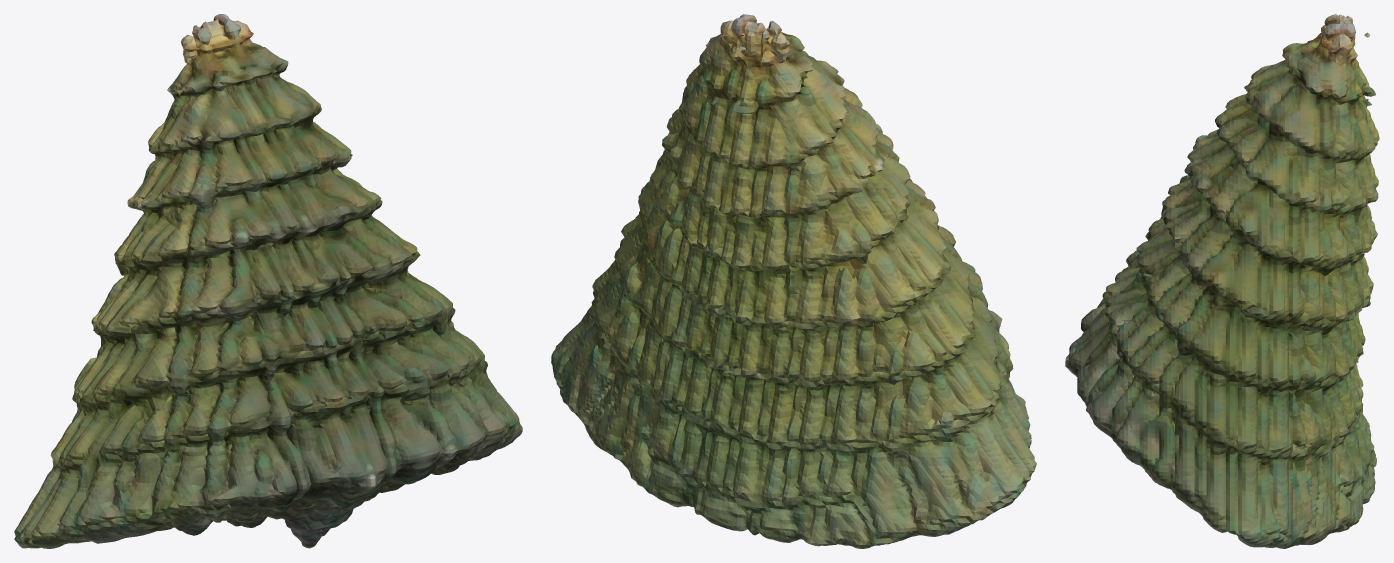
Rendered from bengkulu.glb.
The picture shows the model from 3 angles, left to right: view 1: azimuth 30°, elevation 25°; view 2: azimuth 150°, elevation 25°; view 3: azimuth 270°, elevation 25°; orthographic projection. The views are drawn at different scales.
Visible parts, largest first — view 1: world; view 2: world; view 3: world.
Boxes of the visible parts, x1=… form: world: x1=14, y1=14, x2=522, y2=548; world: x1=551, y1=14, x2=1036, y2=548; world: x1=1065, y1=14, x2=1379, y2=548.
Bounding box in the file's own units: 0.9153 × 0.9058 × 0.5462.
